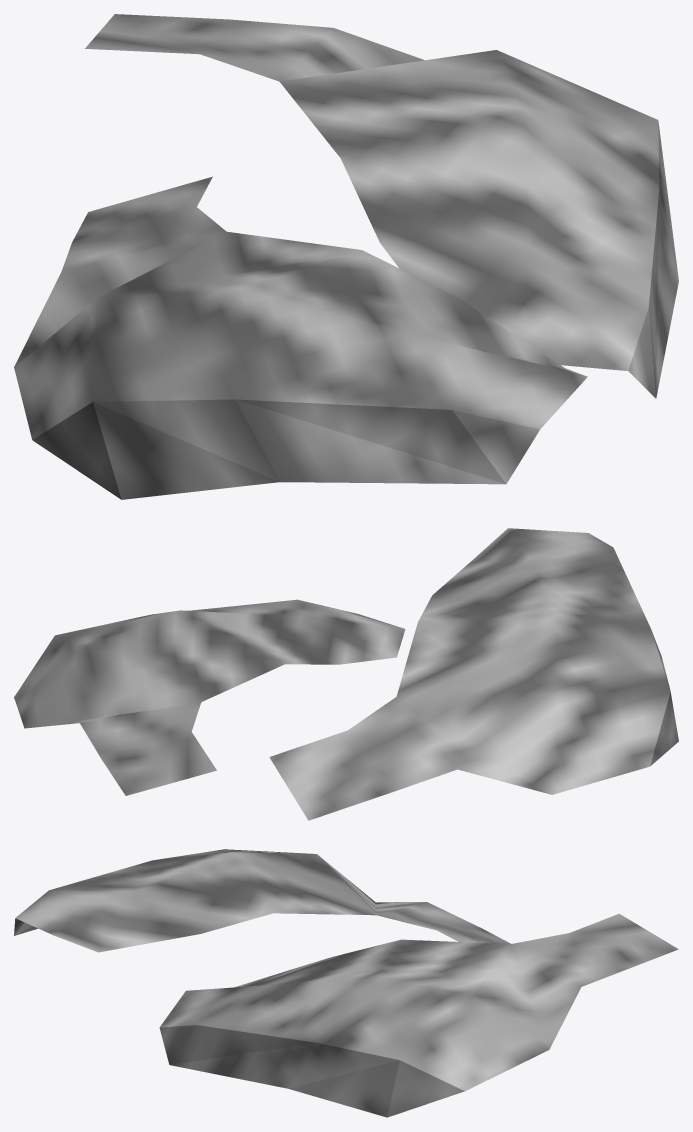
The model's file is FakeBeard_Bob_Beard_Chops.fbx.
3 renders of one model, top to bottom at view 1: azimuth 30°, elevation 25°; view 2: azimuth 150°, elevation 25°; view 3: azimuth 270°, elevation 25°, orthographic. The views are drawn at different scales.
Parts seen in each view (by area): view 1: BoxOfJars003; view 2: BoxOfJars003; view 3: BoxOfJars003.
Boxes of the visible parts, x1=… form: BoxOfJars003: x1=14, y1=14, x2=678, y2=499; BoxOfJars003: x1=14, y1=528, x2=678, y2=820; BoxOfJars003: x1=14, y1=849, x2=678, y2=1117.
Size of the model in its own units: 9.22 by 1.96 by 11.7.
